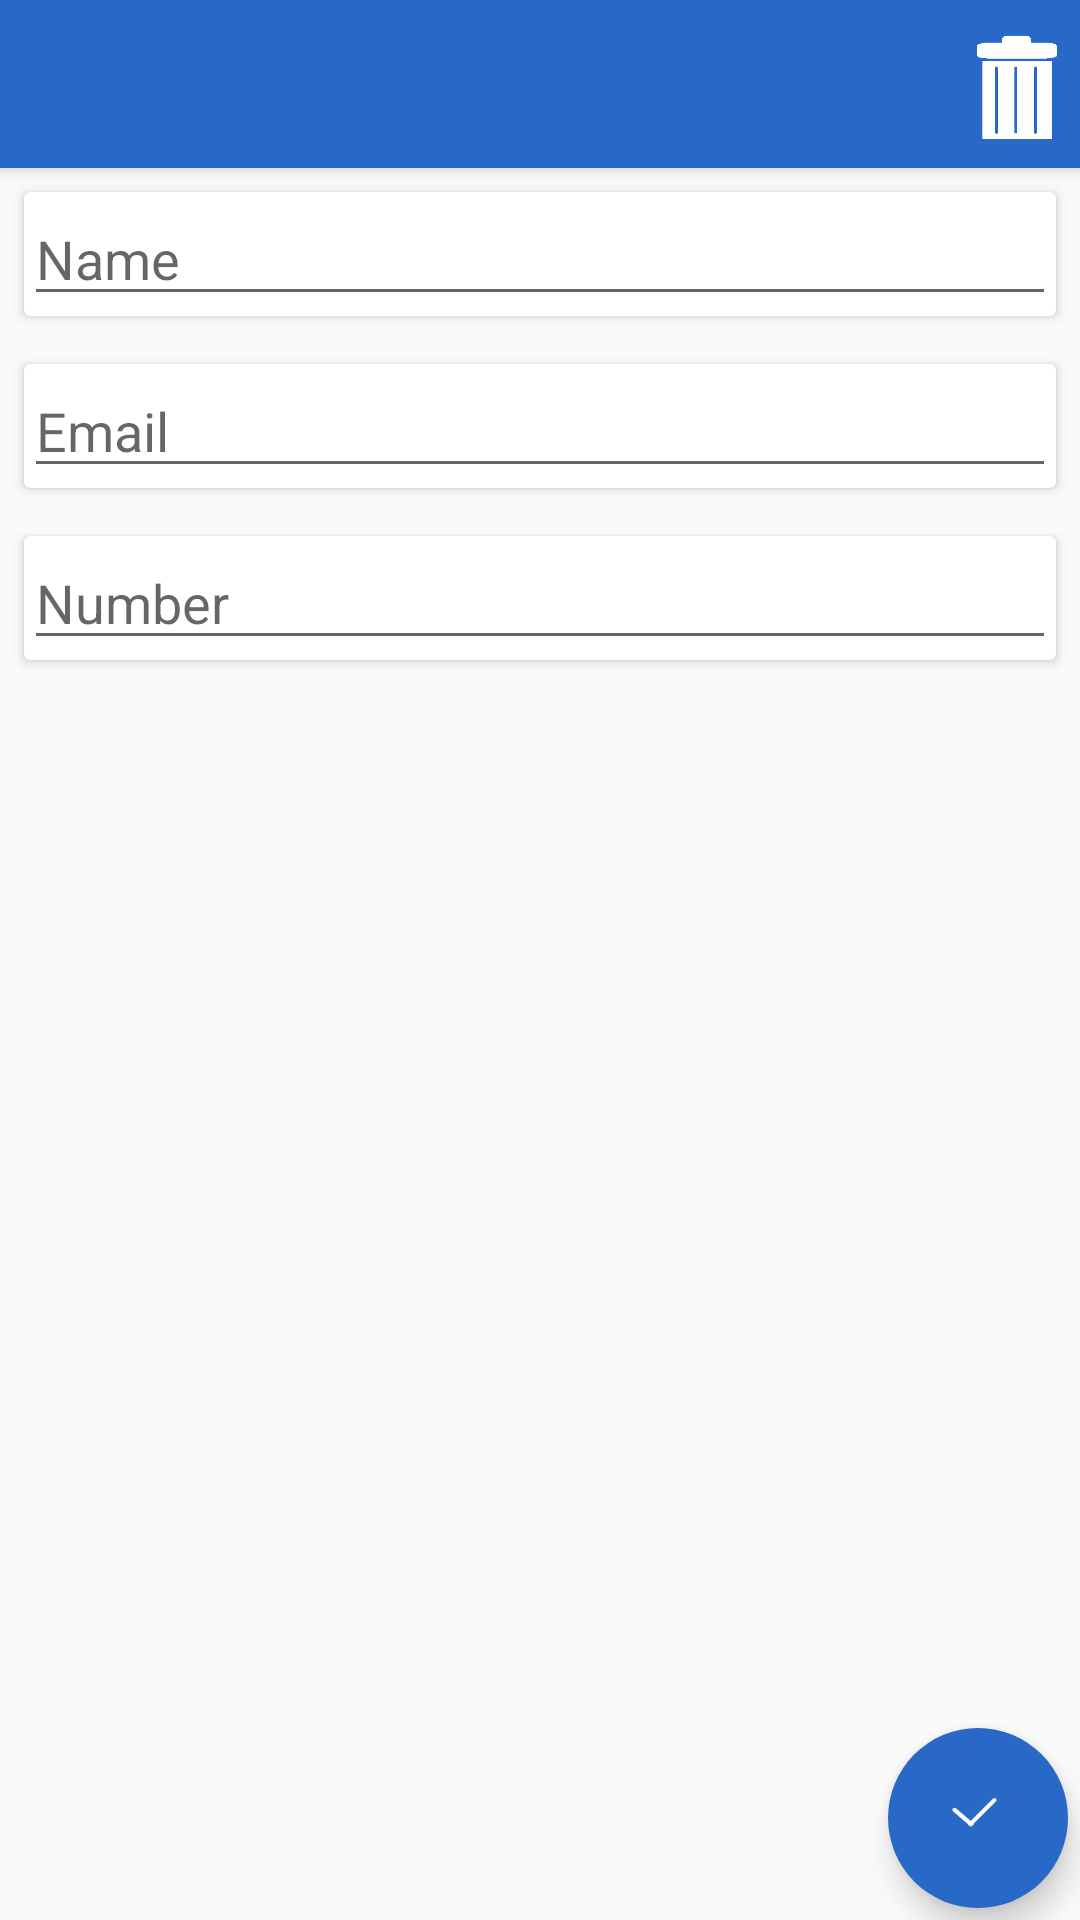

Icon bounding boxes for this 1080x1920 phone screenshot, format (x1, y1, x2, y2):
delete: (977, 36, 1057, 139)
save: (888, 1728, 1068, 1908)
